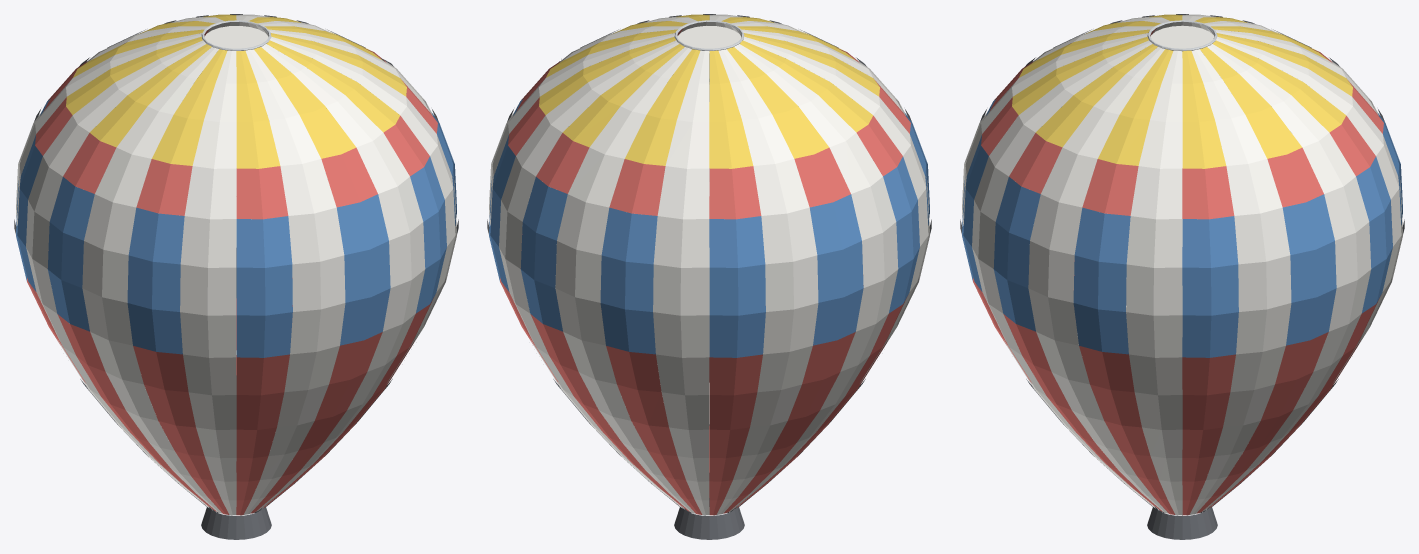
Rendered from hot-air-balloon-festival-balloon-envelope-inflated-5e8c3c4d__38465.glb.
3 views of the same model, side by side, from view 1: azimuth 30°, elevation 25°; view 2: azimuth 150°, elevation 25°; view 3: azimuth 270°, elevation 25° (orthographic).
Parts seen in each view (by area): view 1: balloon-envelope-inflated-canvasB, balloon-envelope-inflated-canvasC, balloon-envelope-inflated-canvasA, balloon-envelope-inflated-canvasD, balloon-envelope-inflated-charcoal; view 2: balloon-envelope-inflated-canvasB, balloon-envelope-inflated-canvasC, balloon-envelope-inflated-canvasA, balloon-envelope-inflated-canvasD, balloon-envelope-inflated-charcoal; view 3: balloon-envelope-inflated-canvasB, balloon-envelope-inflated-canvasC, balloon-envelope-inflated-canvasA, balloon-envelope-inflated-canvasD, balloon-envelope-inflated-charcoal.
Boxes of the visible parts, bbox=[...] form: balloon-envelope-inflated-canvasB: bbox=[16, 14, 456, 515]; balloon-envelope-inflated-canvasC: bbox=[16, 99, 456, 357]; balloon-envelope-inflated-canvasA: bbox=[27, 29, 437, 515]; balloon-envelope-inflated-canvasD: bbox=[66, 14, 406, 168]; balloon-envelope-inflated-charcoal: bbox=[14, 14, 458, 539]; balloon-envelope-inflated-canvasB: bbox=[489, 14, 929, 515]; balloon-envelope-inflated-canvasC: bbox=[489, 79, 929, 357]; balloon-envelope-inflated-canvasA: bbox=[500, 29, 910, 515]; balloon-envelope-inflated-canvasD: bbox=[539, 14, 879, 168]; balloon-envelope-inflated-charcoal: bbox=[487, 14, 931, 539]; balloon-envelope-inflated-canvasB: bbox=[962, 14, 1402, 515]; balloon-envelope-inflated-canvasC: bbox=[962, 99, 1402, 357]; balloon-envelope-inflated-canvasA: bbox=[973, 28, 1383, 515]; balloon-envelope-inflated-canvasD: bbox=[1012, 14, 1352, 168]; balloon-envelope-inflated-charcoal: bbox=[960, 14, 1404, 539].
Bounding box in the file's own units: 17.21 × 21.24 × 17.21.
